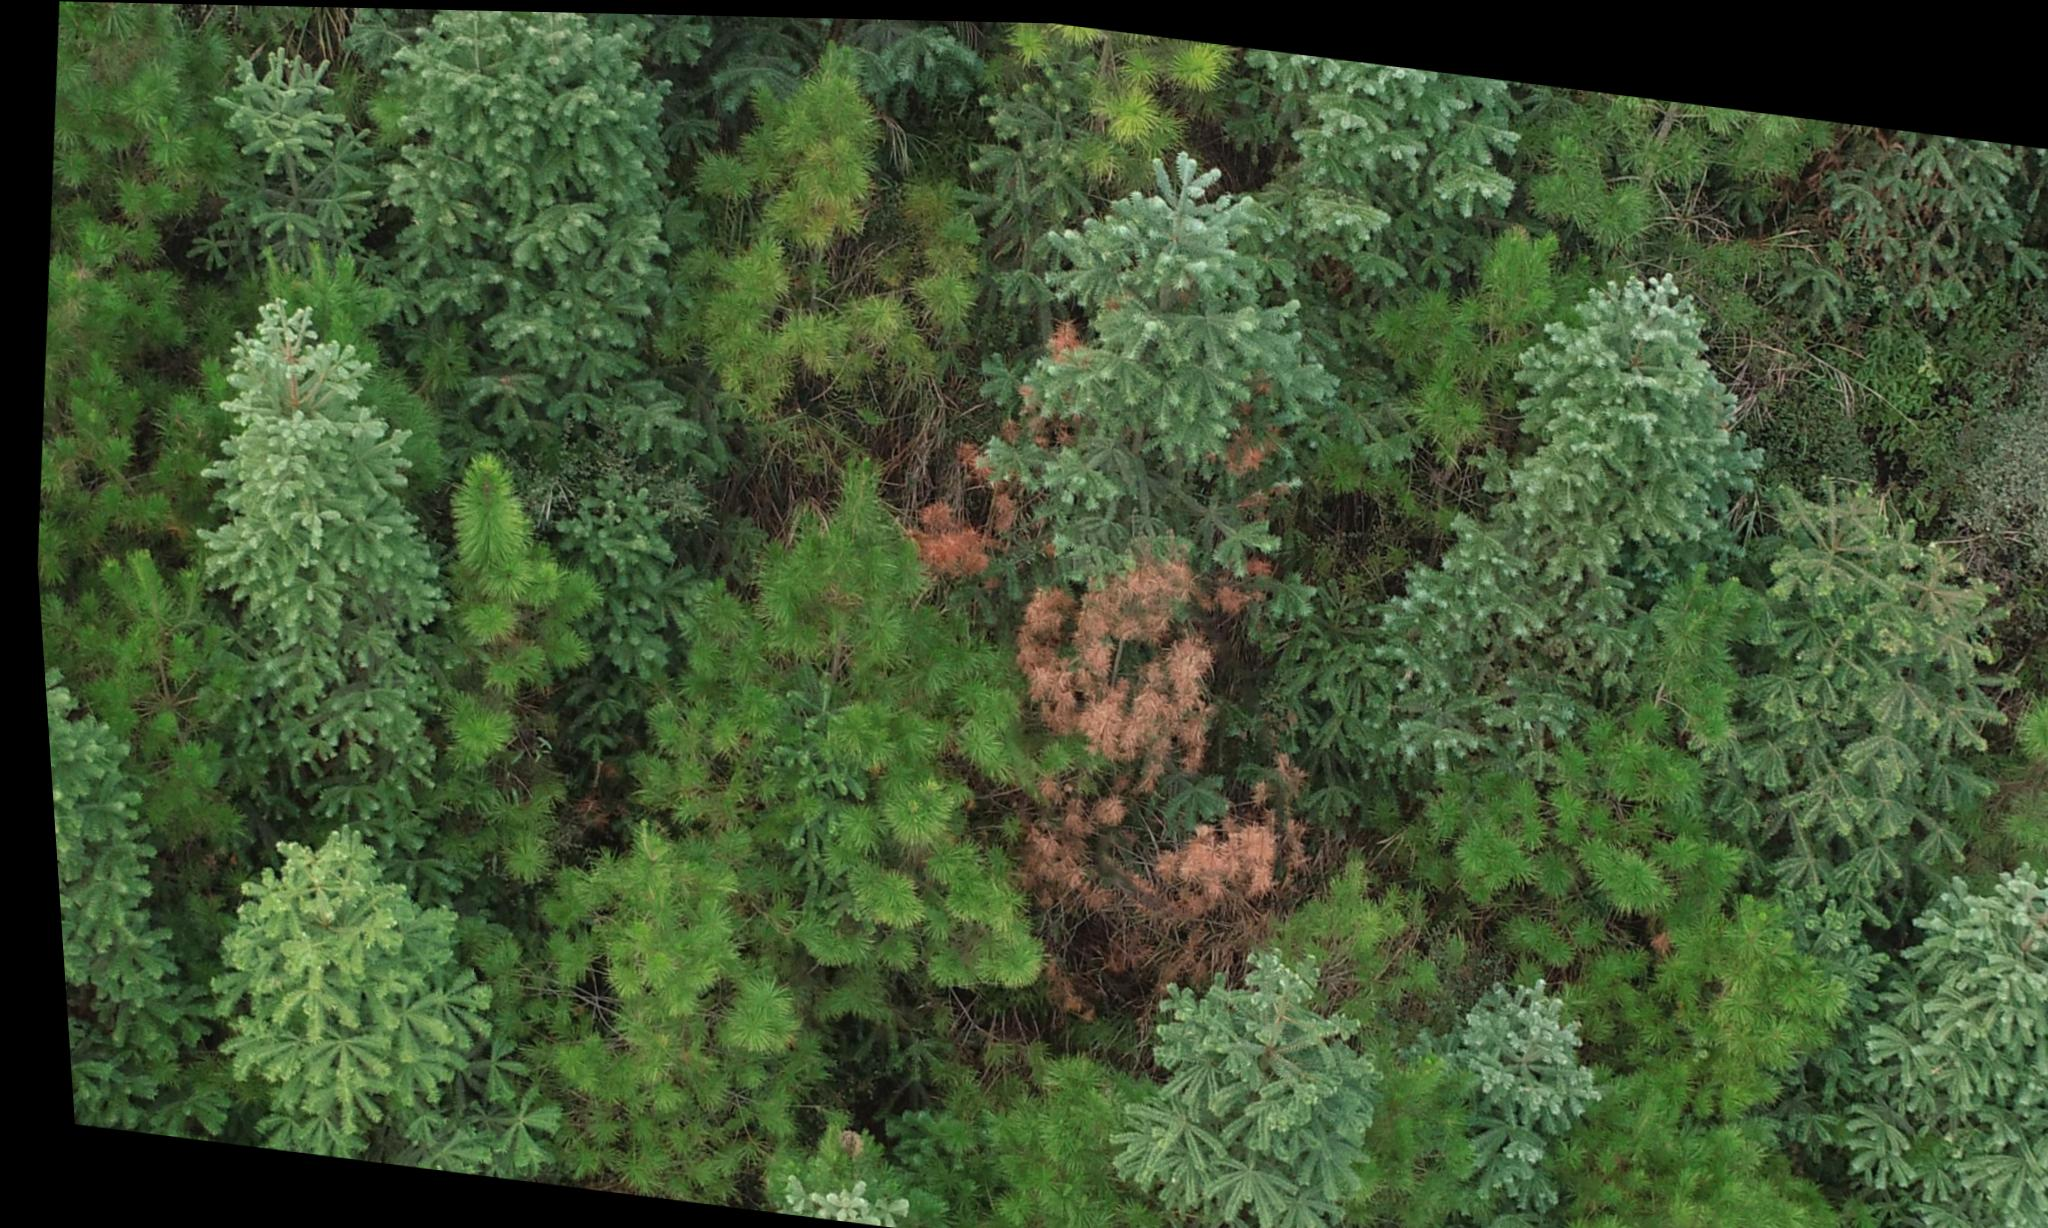heavy: (884, 449, 1324, 984)
